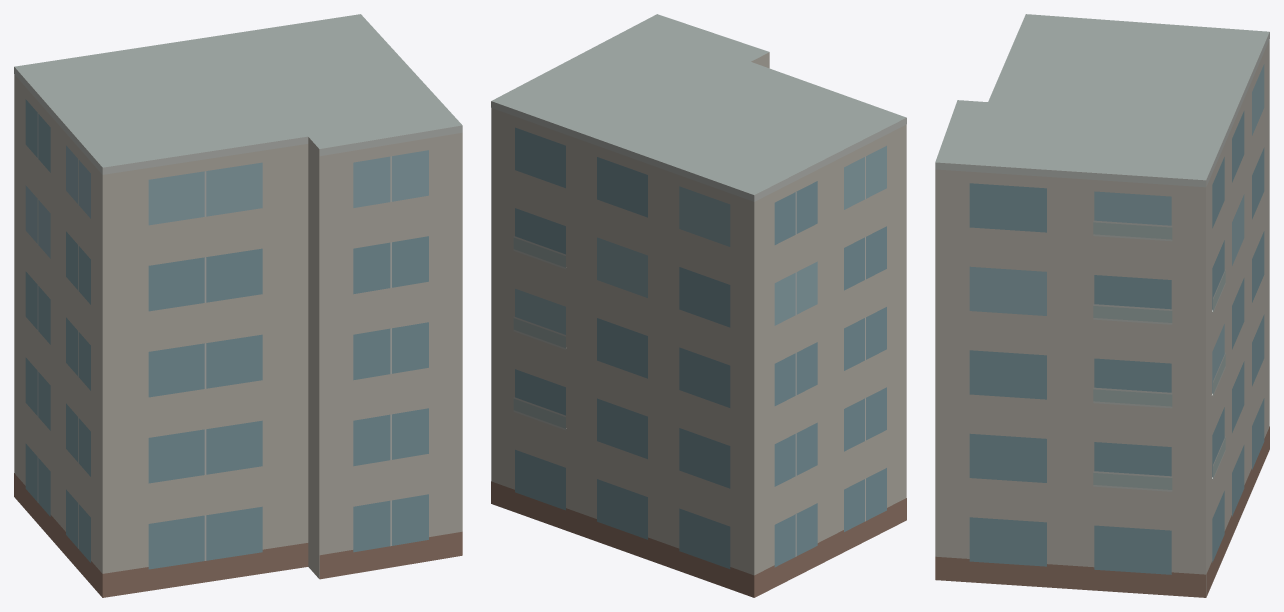
File: survey-upis-32702887.glb
The picture shows the model from 3 angles, left to right: view 1: azimuth 30°, elevation 25°; view 2: azimuth 150°, elevation 25°; view 3: azimuth 270°, elevation 25°; orthographic projection. The views are drawn at different scales.
Visible parts, largest first — view 1: survey-upis-32702887.tmp; view 2: survey-upis-32702887.tmp; view 3: survey-upis-32702887.tmp.
Boxes of the visible parts, bbox=[...] form: survey-upis-32702887.tmp: bbox=[14, 14, 462, 597]; survey-upis-32702887.tmp: bbox=[491, 14, 906, 597]; survey-upis-32702887.tmp: bbox=[935, 14, 1269, 597].
Bounding box in the file's own units: 12.44 × 14.55 × 10.58.
